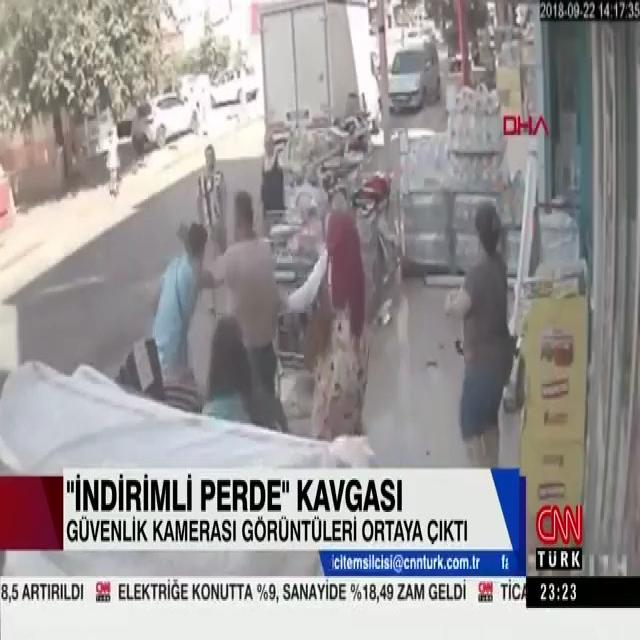fight: (158, 185, 283, 437)
